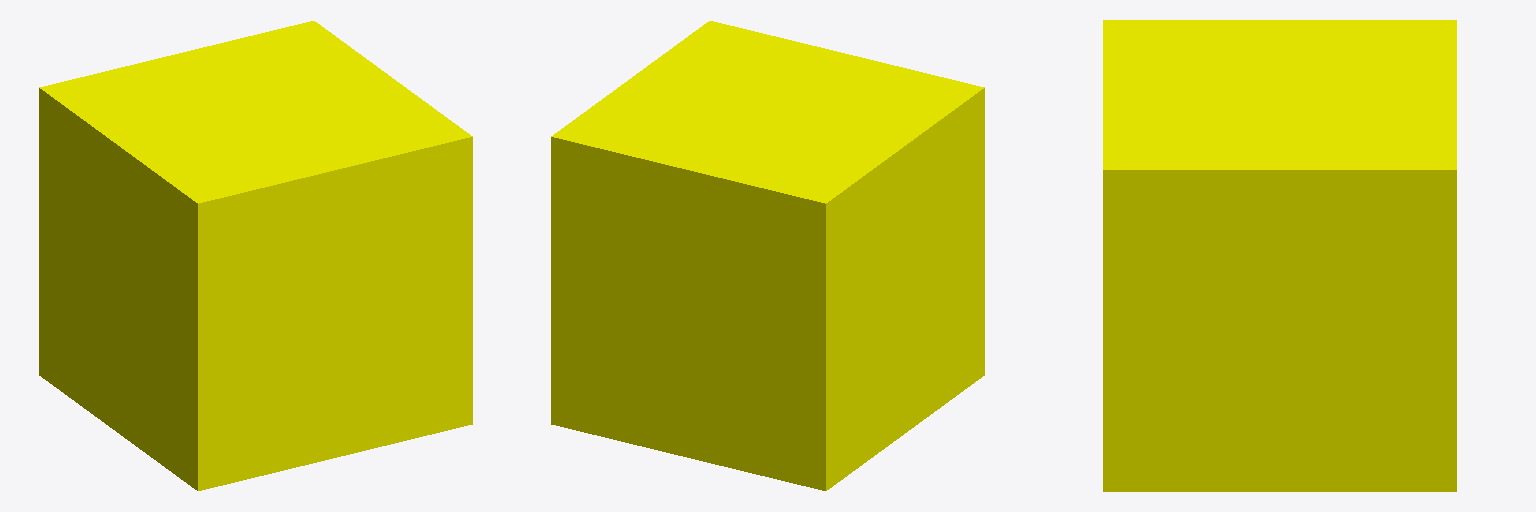
The robot description file, URDF, robot "food_item2":
<?xml version="1.0" ?>
<robot name="food_item2">
  <link name="food_item2">
    <collision>
      <origin xyz="0.0 0.0 0.025" />
      <geometry>
        <box size="0.05 0.05 0.05" />
      </geometry>
    </collision>
    <visual>
      <origin xyz="0.0 0.0 0.025" />
      <material name="c">
        <color rgba="1. 1. 0 1.0" />
      </material>
      <geometry>
        <box size="0.05 0.05 0.05" />
      </geometry>
    </visual>
  </link>
</robot>

--- Facts derived from the render (not from the file) ---
3 views of the same robot in one strip: view 1: azimuth 30°, elevation 25°; view 2: azimuth 150°, elevation 25°; view 3: azimuth 270°, elevation 25° (orthographic).
Model food_item2 with 1 links and 0 joints (none), rooted at food_item2, posed all joints at 0.
Visible links, largest first — view 1: food_item2; view 2: food_item2; view 3: food_item2.
Boxes of the visible links, x1=… form: food_item2: x1=39, y1=21, x2=472, y2=490; food_item2: x1=551, y1=21, x2=984, y2=490; food_item2: x1=1103, y1=20, x2=1456, y2=491.
Size in the robot's own frame: 0.05 by 0.05 by 0.05 metres.
Geometry: primitives only (box / cylinder / sphere), no mesh files.